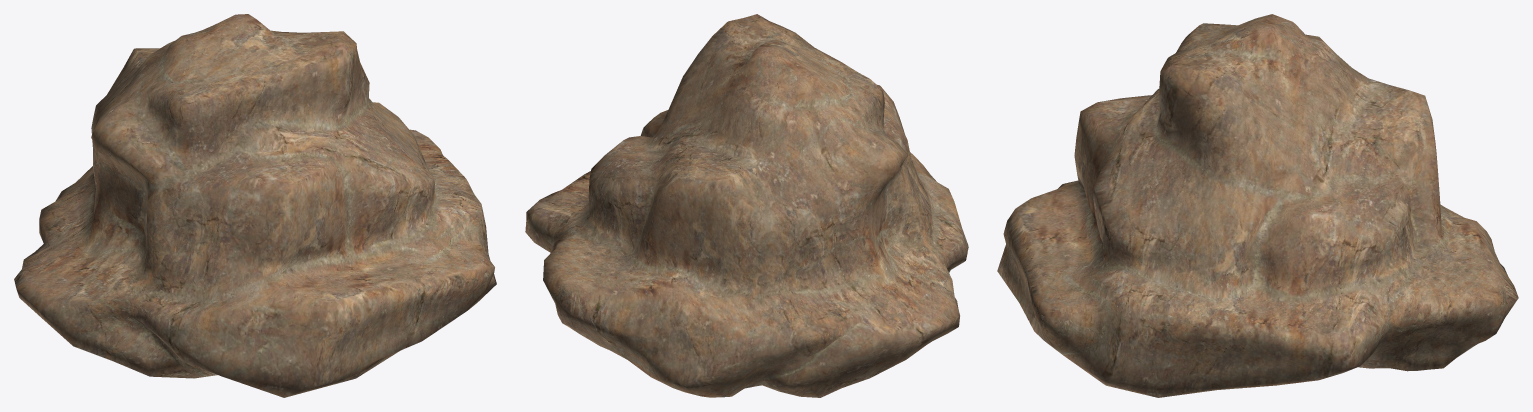
File: Rock_5.fbx
3 renders of one model, left to right at view 1: azimuth 30°, elevation 25°; view 2: azimuth 150°, elevation 25°; view 3: azimuth 270°, elevation 25°, orthographic. The views are drawn at different scales.
Visible parts, largest first — view 1: Rock_6; view 2: Rock_6; view 3: Rock_6.
Boxes of the visible parts, left/top/right/bottom form: Rock_6: left=14, top=14, right=496, bottom=397; Rock_6: left=525, top=14, right=968, bottom=397; Rock_6: left=997, top=14, right=1518, bottom=397.
Bounding box in the file's own units: 260 × 190 × 265.
